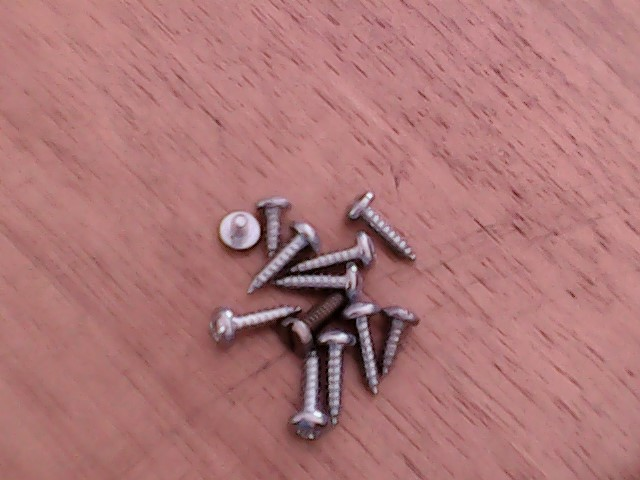Metal: (197, 148, 430, 480)
